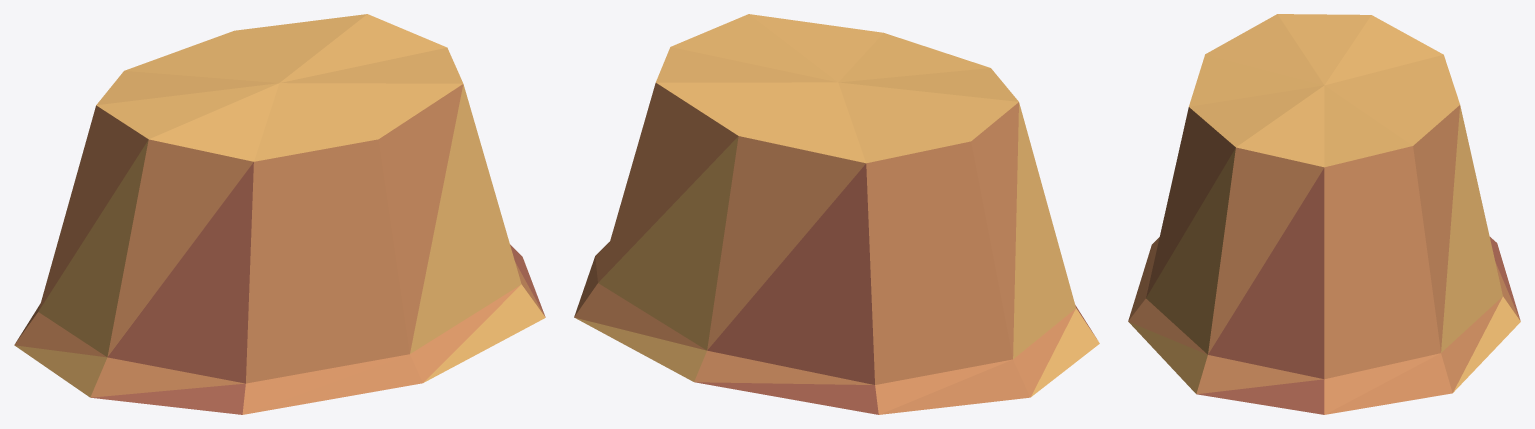
3 renders of one model, left to right at view 1: azimuth 30°, elevation 25°; view 2: azimuth 150°, elevation 25°; view 3: azimuth 270°, elevation 25°, orthographic. The views are drawn at different scales.
Parts seen in each view (by area): view 1: 错层台地_2.001; view 2: 错层台地_2.001; view 3: 错层台地_2.001.
Boxes of the visible parts, box(x1,y1,x2,y2) form: 错层台地_2.001: box(14, 14, 545, 414); 错层台地_2.001: box(574, 14, 1099, 414); 错层台地_2.001: box(1128, 14, 1520, 414).
Size of the model in its own units: 1.27 by 0.6018 by 0.975.
